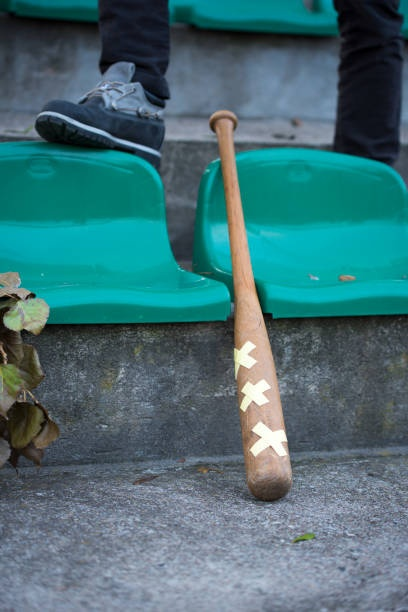bita: (206, 109, 298, 498)
